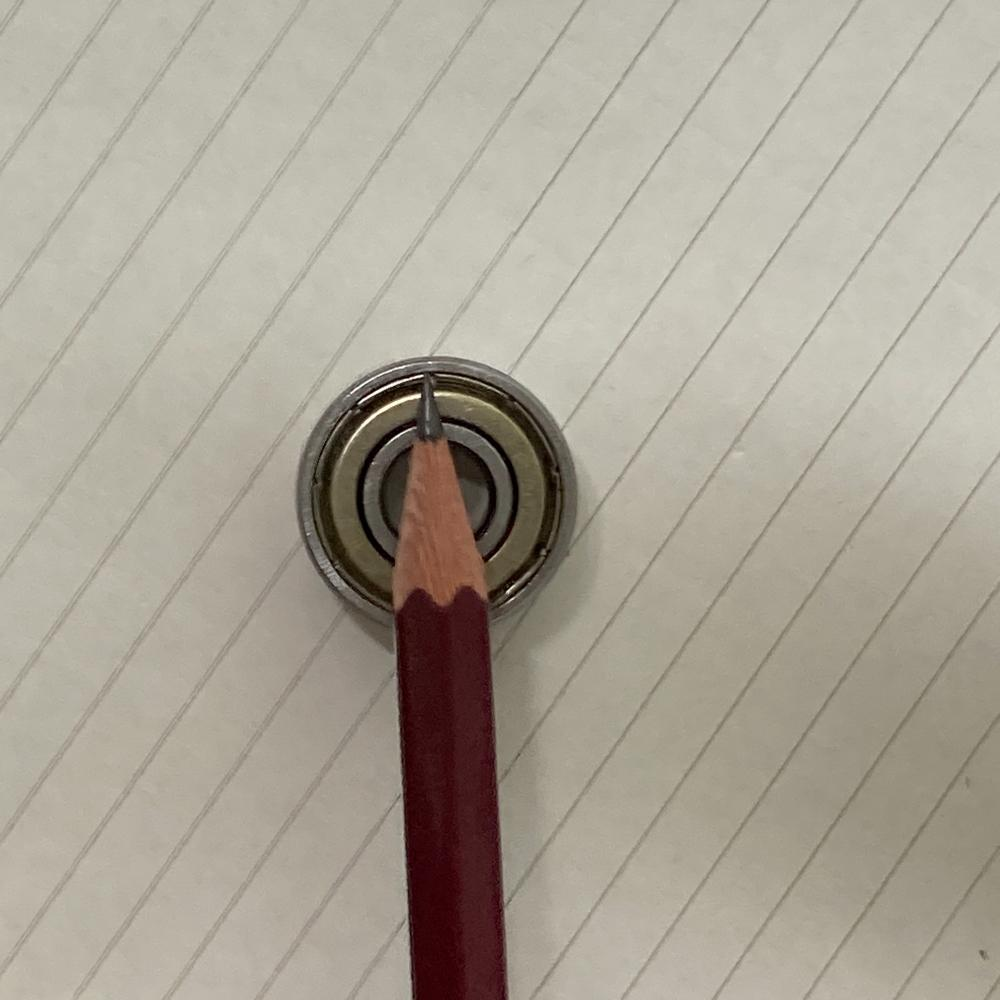ball_bearing: (291, 352, 582, 637)
